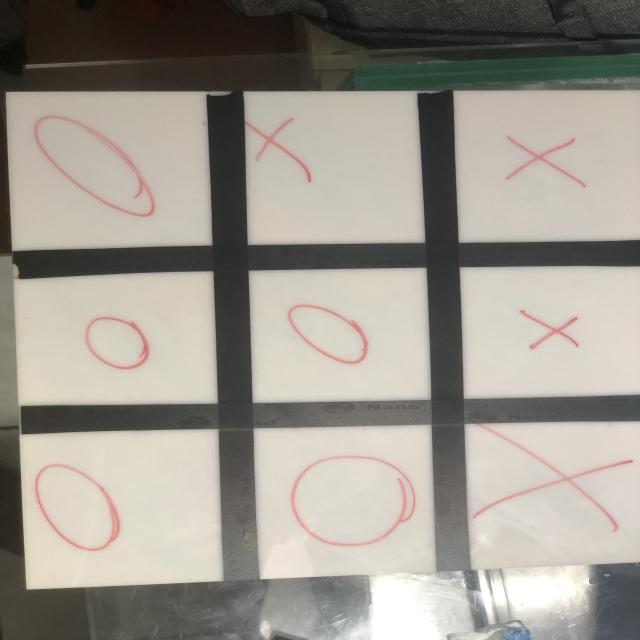o: (28, 107, 159, 223), (291, 453, 418, 549), (31, 458, 122, 554), (285, 300, 371, 368), (82, 311, 151, 371)
table: (4, 88, 640, 589)
x: (468, 424, 633, 536), (501, 130, 597, 190), (243, 115, 320, 181), (516, 307, 587, 356)
